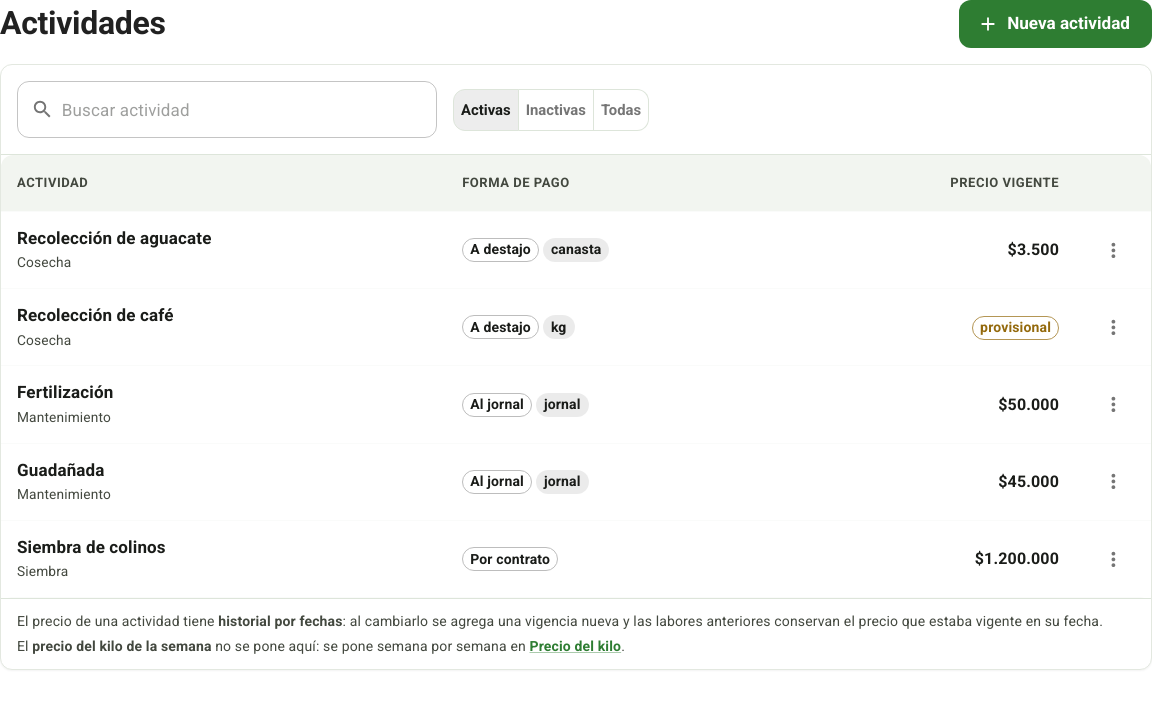
editing an activity that already exists › sends you to the place where the price per kilo really is changed
Click the text "Recolección de café": [95, 315] box [17,305,174,325]
(page scrolled)
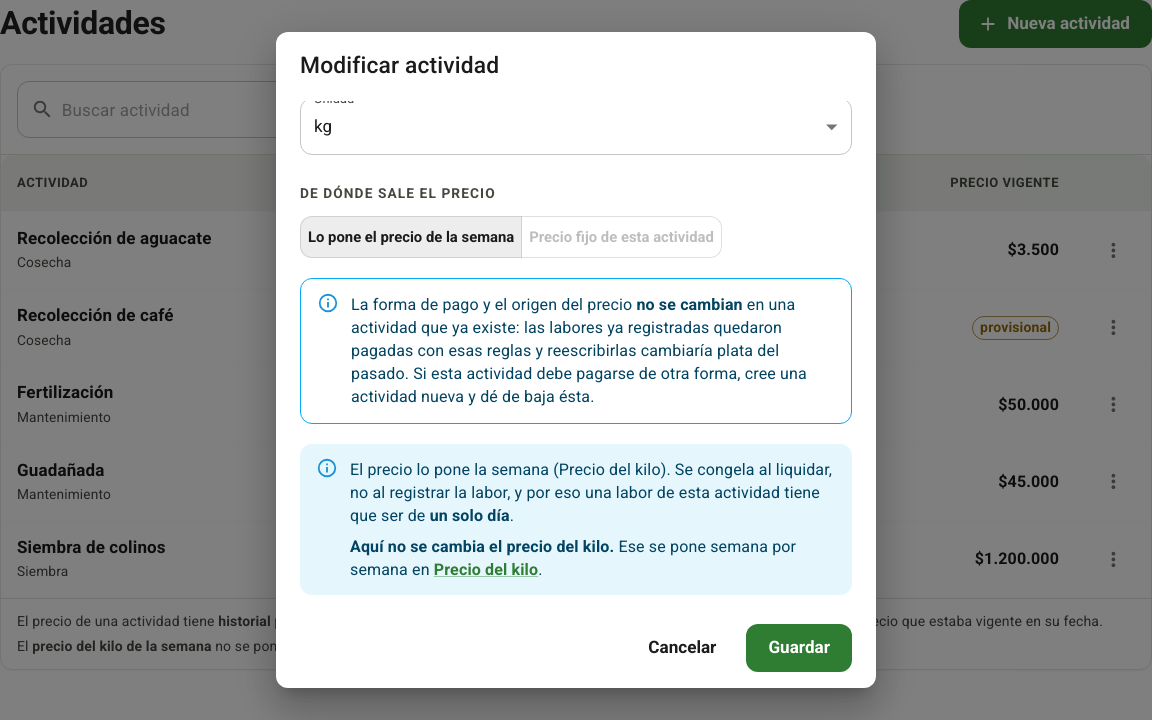
Result: the text "Aquí no se cambia el precio del kilo." is shown at [350,537,614,556]
